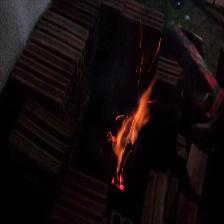fire: (107, 73, 155, 196)
